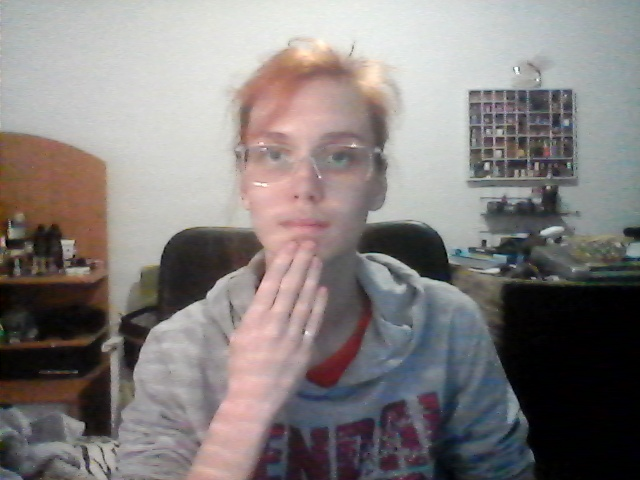dakujem: (221, 234, 338, 393)
